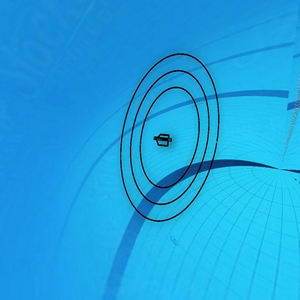circle: (118, 51, 221, 221)
submarine: (153, 130, 173, 146)
